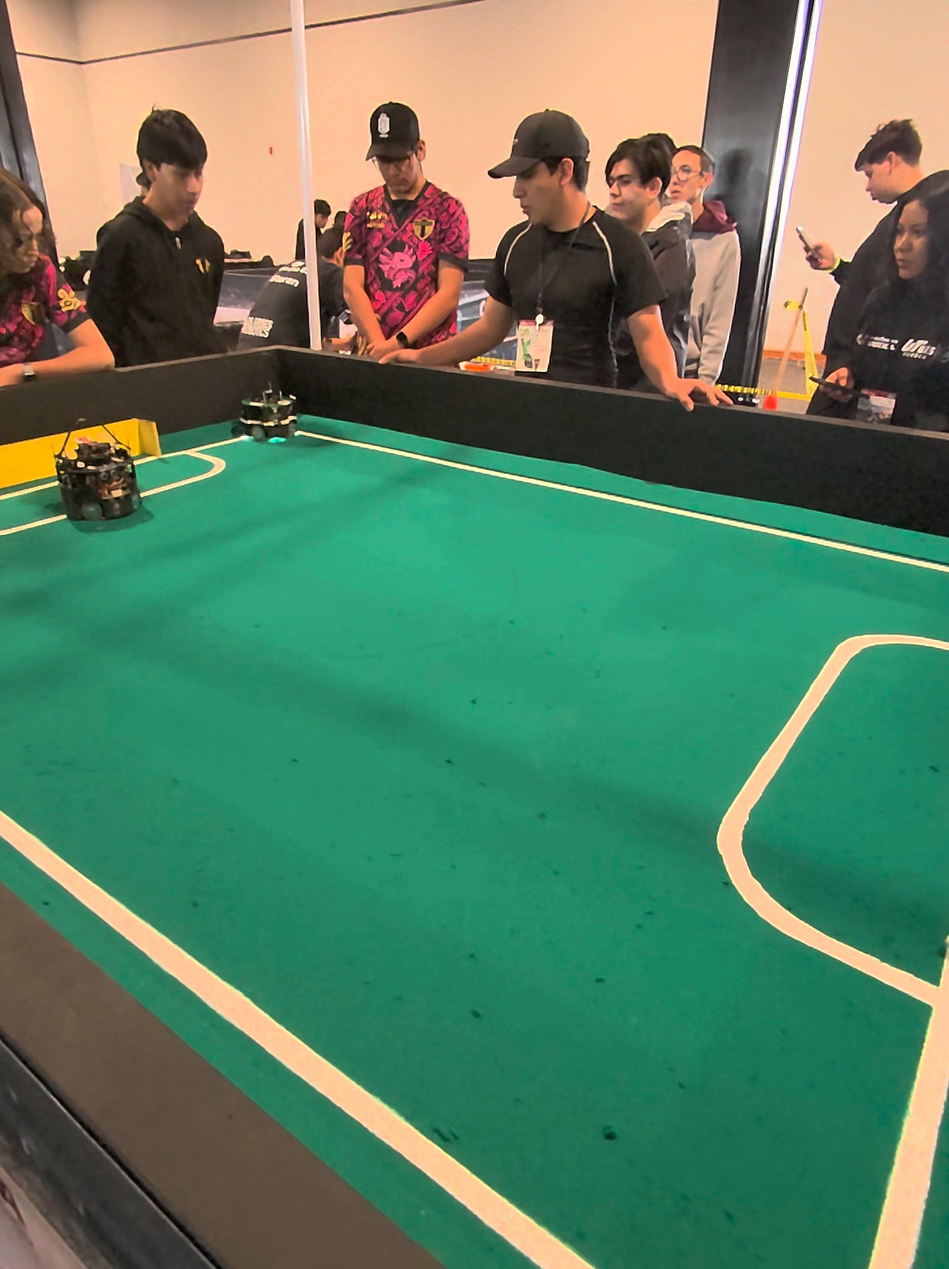Robot: (54, 411, 143, 526), (235, 350, 308, 461)
